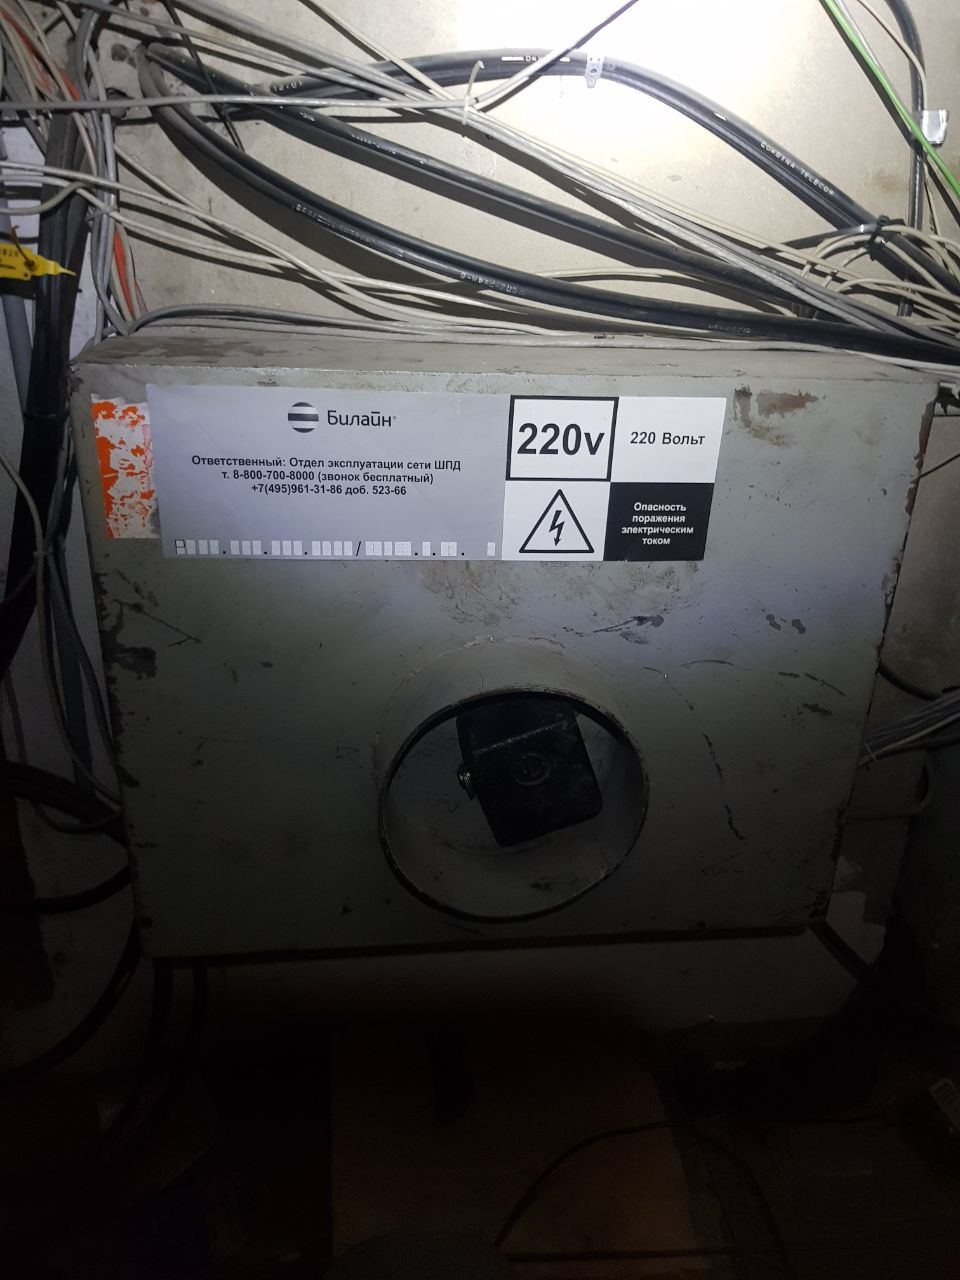shta-3: (57, 307, 947, 957)
